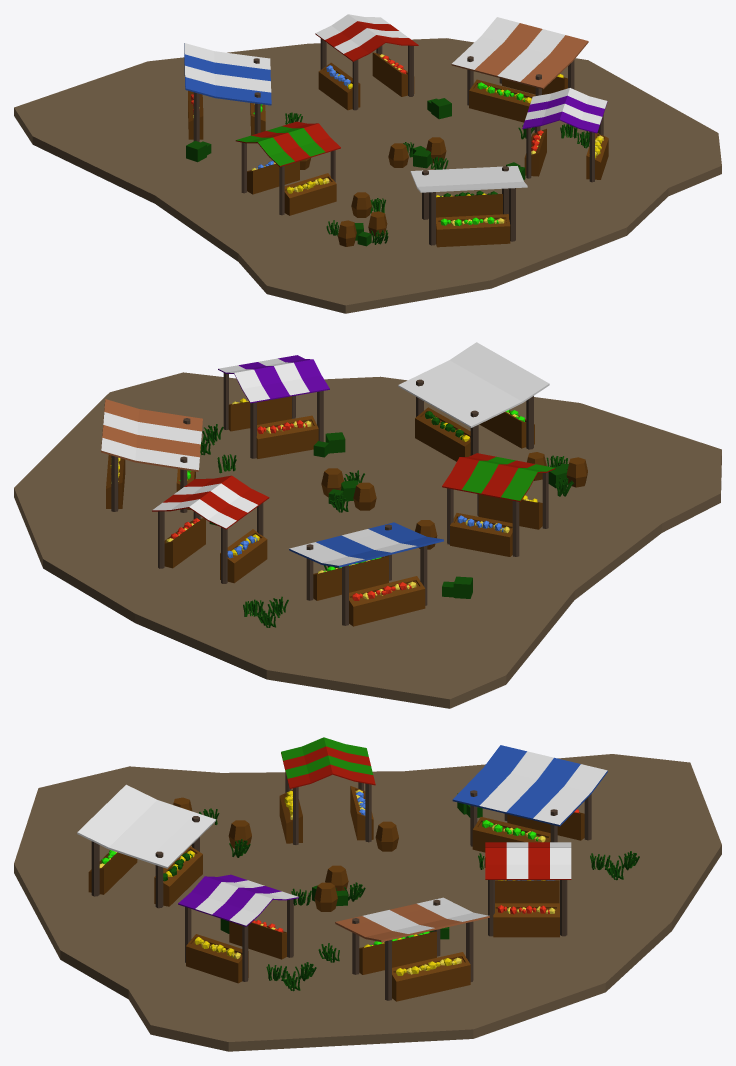
File: MarketFinal.fbx
3 views of the same model, one above another, from view 1: azimuth 30°, elevation 25°; view 2: azimuth 150°, elevation 25°; view 3: azimuth 270°, elevation 25° (orthographic). The views are drawn at different scales.
Visible parts, largest first — view 1: Cube.271; view 2: Cube.271; view 3: Cube.271.
Part boxes in pixels (bbox=[...]): Cube.271: bbox=[14, 14, 721, 313]; Cube.271: bbox=[14, 342, 721, 708]; Cube.271: bbox=[14, 737, 721, 1051].
Bounding box in the file's own units: 90.36 × 11.85 × 93.8.
